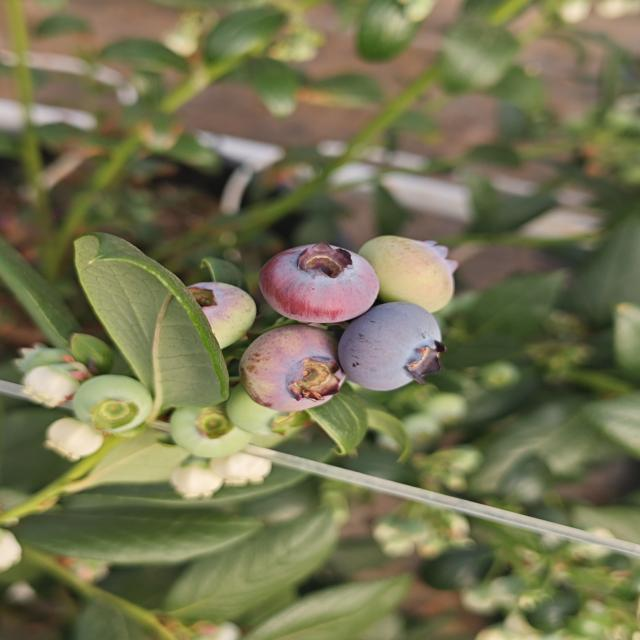ripe: (256, 240, 382, 325), (335, 300, 448, 394)
